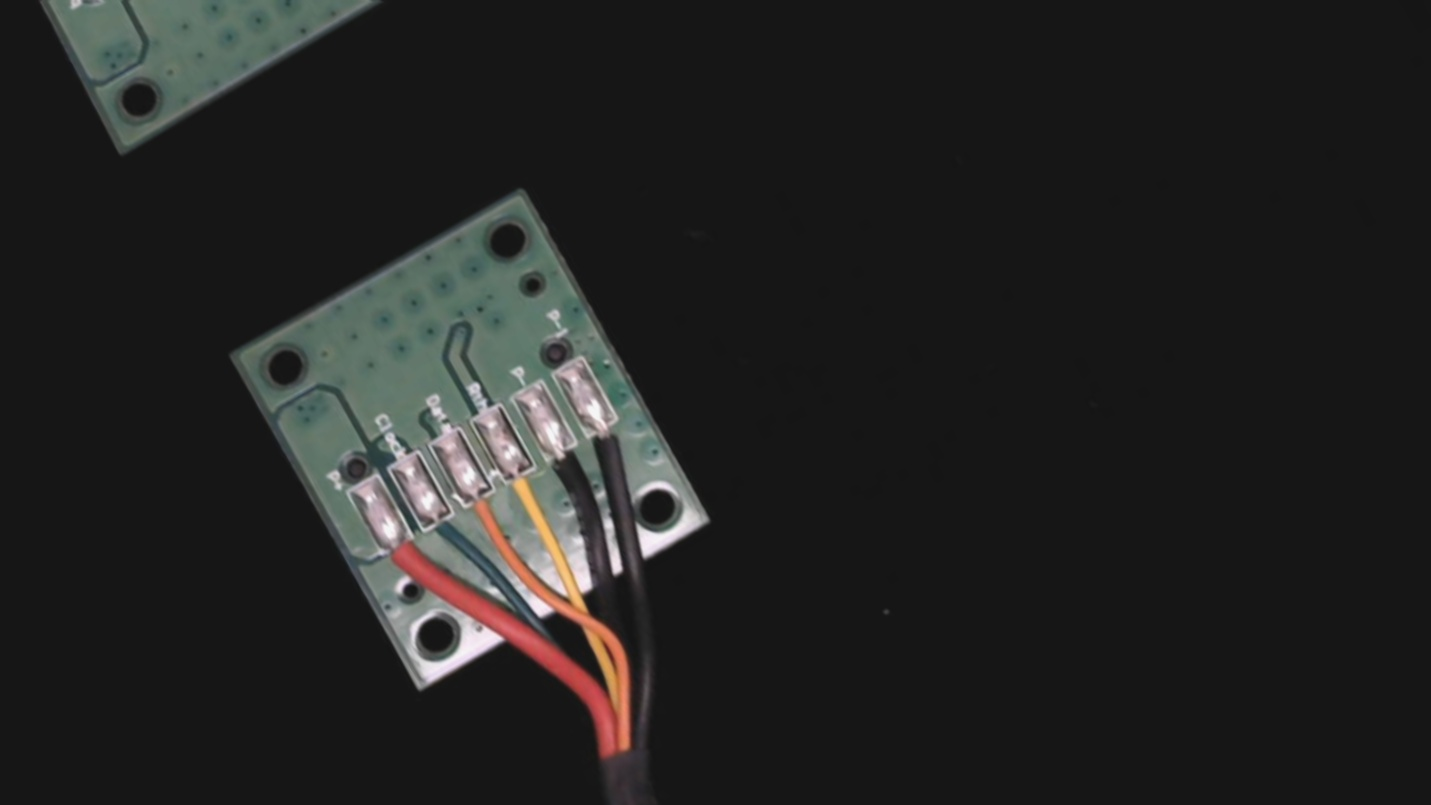Black: (524, 421, 616, 522)
Black1: (570, 399, 646, 481)
Green: (406, 492, 488, 578)
Orange: (447, 472, 522, 554)
Red: (367, 517, 445, 600)
Yellow: (487, 448, 565, 531)
